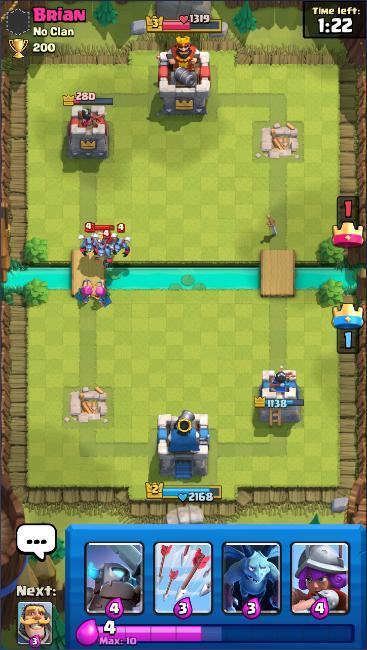ally_archer: (90, 279, 114, 309), (73, 277, 94, 307)
enemy_minion: (78, 221, 103, 258), (89, 230, 117, 262), (110, 221, 133, 259)
